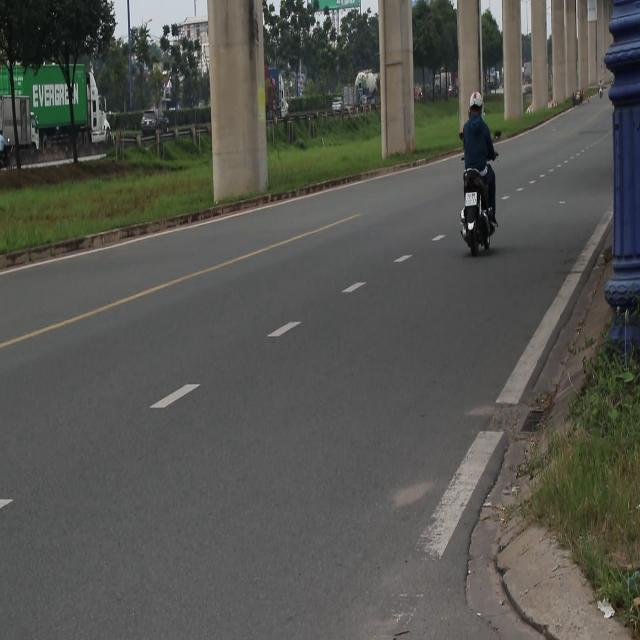car: (140, 107, 177, 141), (327, 97, 343, 121)
motorbike: (456, 160, 500, 240)
truck: (0, 63, 111, 160), (262, 68, 302, 122), (343, 84, 362, 115)
